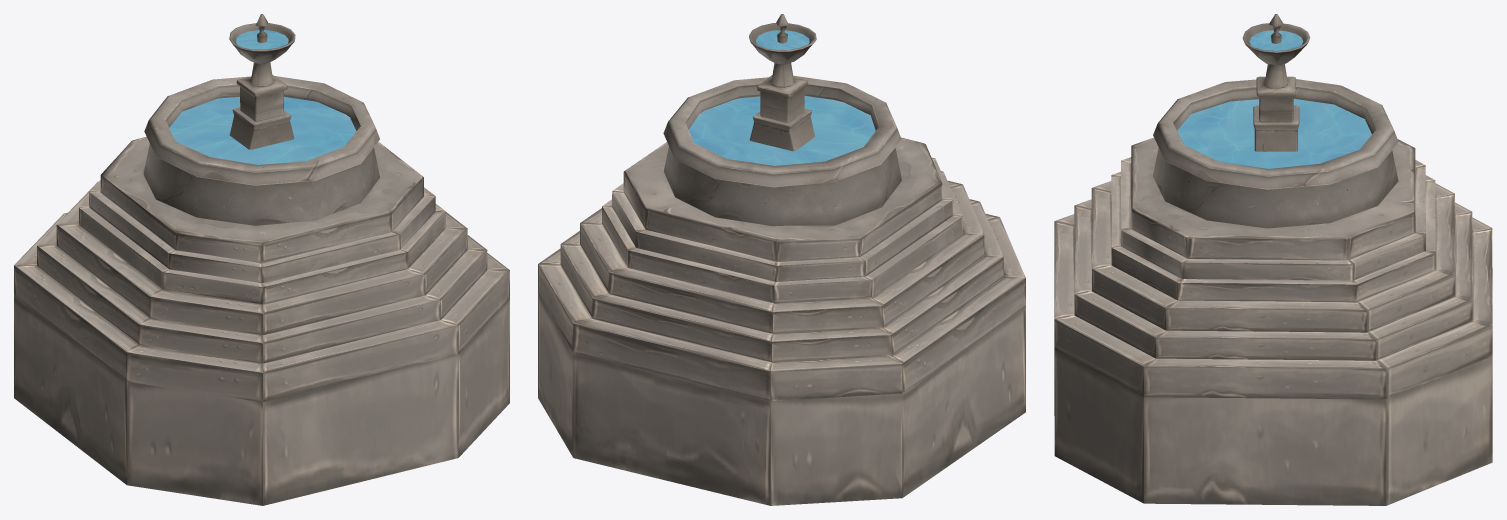
The model's file is fountain.fbx.
3 renders of one model, left to right at view 1: azimuth 30°, elevation 25°; view 2: azimuth 150°, elevation 25°; view 3: azimuth 270°, elevation 25°, orthographic. The views are drawn at different scales.
Parts seen in each view (by area): view 1: Fountain, Step_0; view 2: Fountain, Step_0; view 3: Step_0, Fountain.
Boxes of the visible parts, x1,y1,x2,y2 form: Fountain: (14, 14, 500, 505); Step_0: (15, 142, 509, 505); Fountain: (561, 14, 1025, 505); Step_0: (538, 142, 1013, 457); Step_0: (1054, 139, 1492, 505); Fountain: (1054, 14, 1492, 368).
Size of the model in its own units: 764 by 750 by 751.
